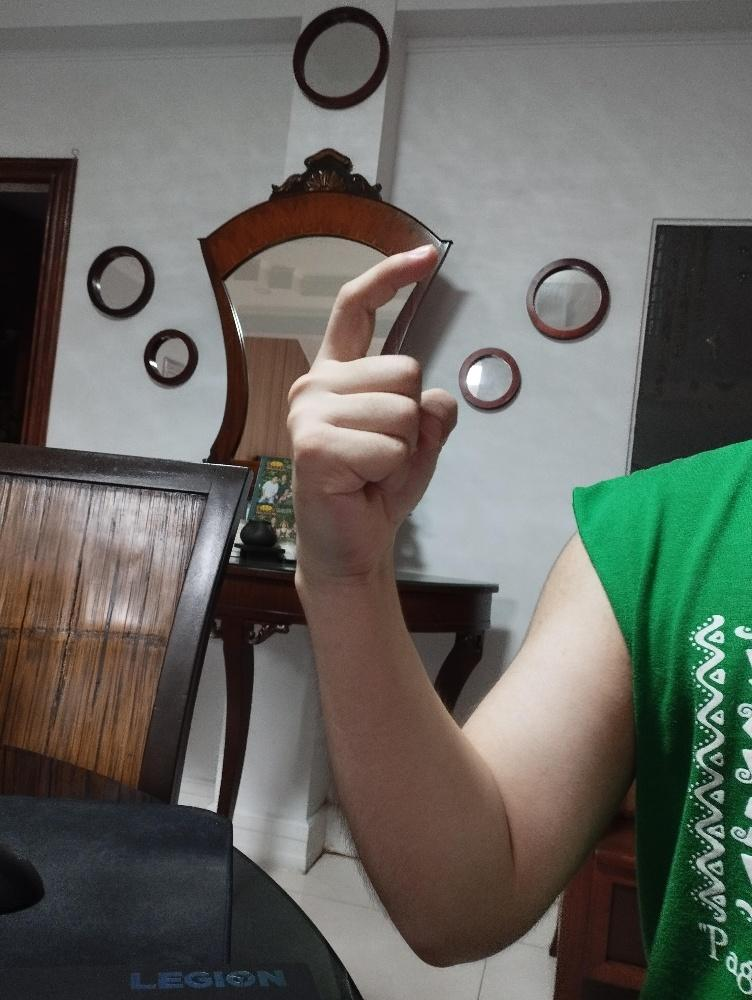x: (282, 236, 462, 586)
